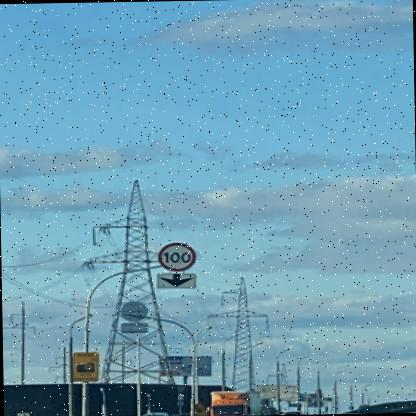speedlimit: (154, 241, 194, 270)
